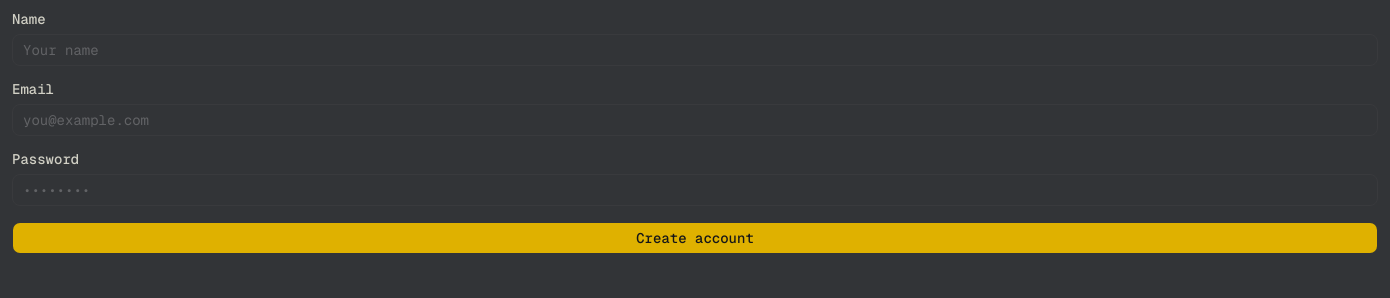
RegisterForm › shows validation error for invalid email
The width and height of the screenshot is (1390, 298).
Type "John" into the field with placeholder "Your name". click: (695, 50)
box: x1=12 y1=34 x2=1378 y2=66
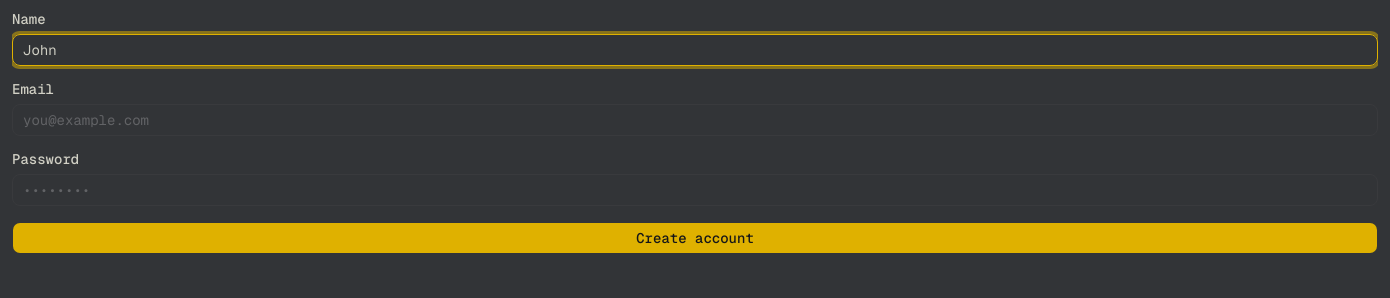
Type "not-email" into the field with placeholder "you@example.com". click: (695, 120)
box: x1=12 y1=104 x2=1378 y2=136
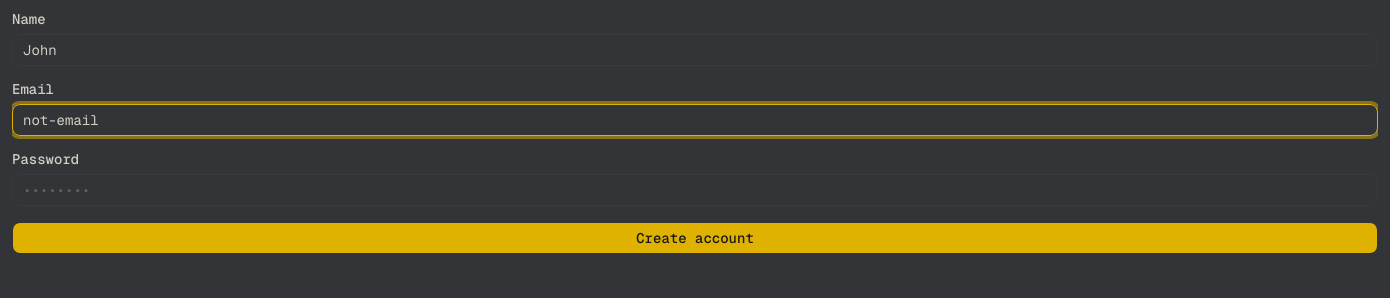
Type "12345678" into the password field with placeholder "••••••••". click: (695, 190)
box: x1=12 y1=174 x2=1378 y2=206
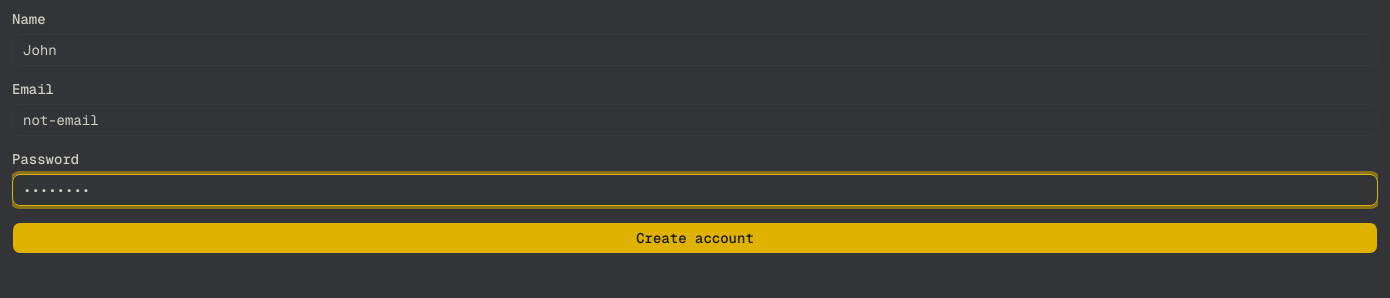
Click the button "Create account". click: click(695, 238)
box: x1=12 y1=222 x2=1378 y2=254
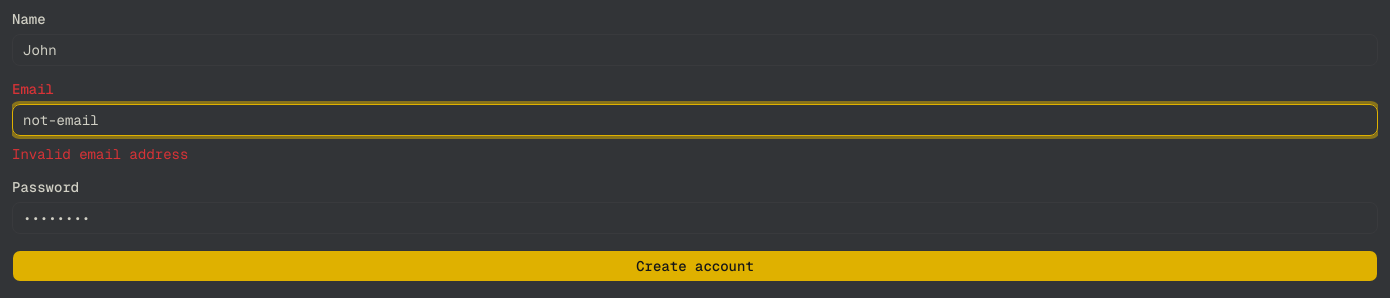
Now the text "Invalid email address" is shown, box x1=12 y1=145 x2=188 y2=163
